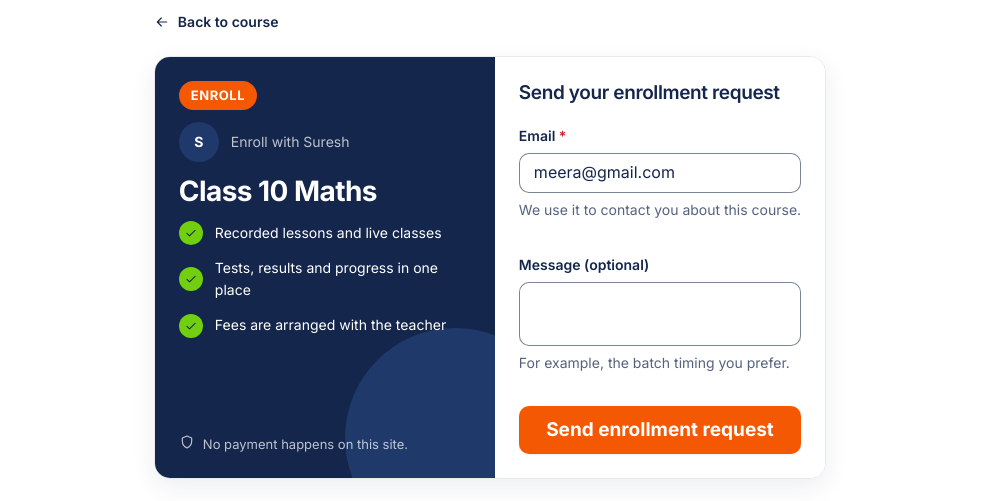
Test case: enroll: a logged-in student sends the request; a visitor sees registration
Check: the field labelled "Email *" holds "meera@gmail.com", box x1=519 y1=153 x2=801 y2=193
Click the button "Send enrollment request".
click(660, 430)  # box x1=519 y1=406 x2=801 y2=454
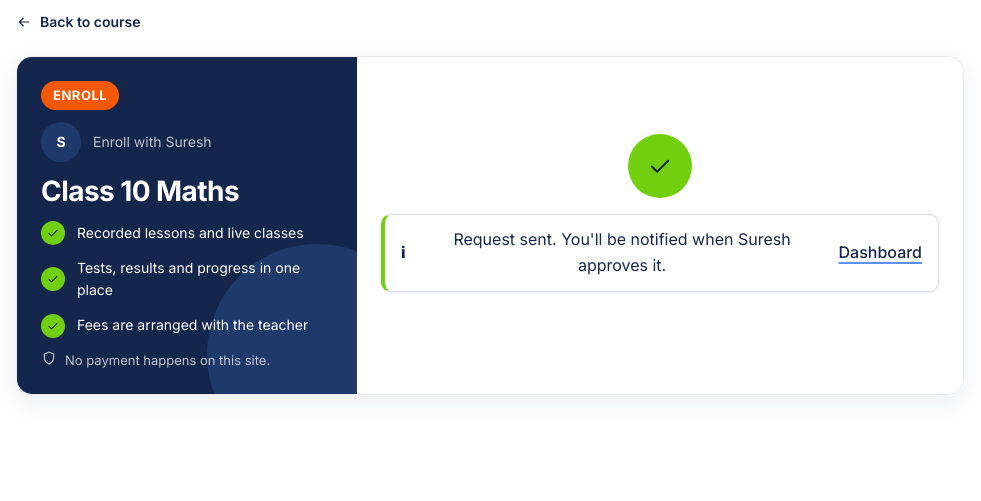
Check: the text "Request sent. You'll be notified when Suresh approves it." is shown, box x1=453 y1=229 x2=791 y2=275
